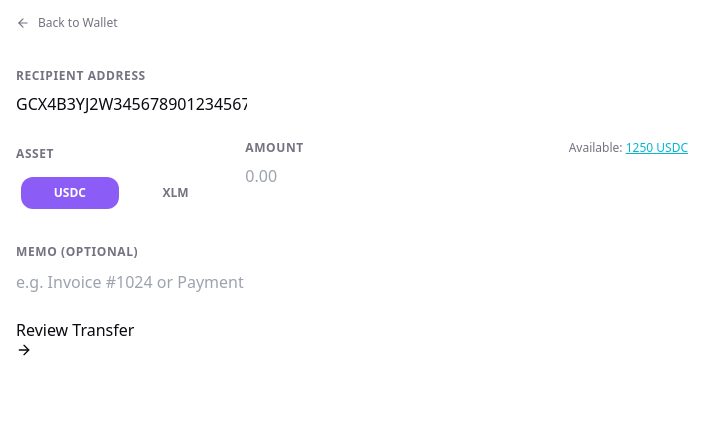
Test: WalletTransferPage › validates empty amount and displays alert
Step 1. Click the button with test id "review-transfer-button" → click(75, 338), box x1=16 y1=318 x2=134 y2=358
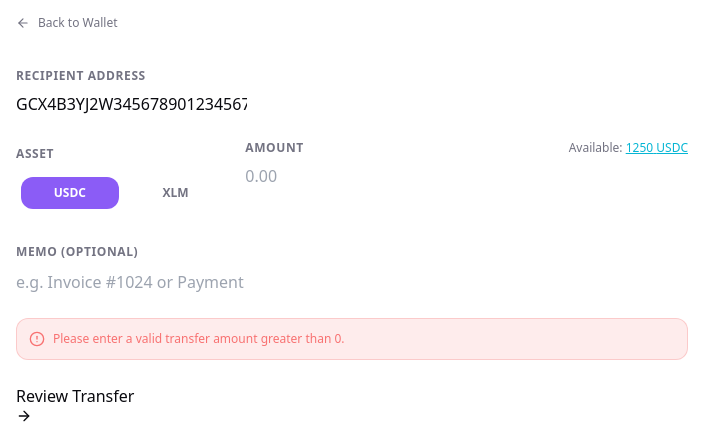
expect the message "Please enter a valid transfer amount greater than 0." is shown: met, box x1=16 y1=318 x2=688 y2=360
expect the text "Please enter a valid transfer amount greater than 0." is shown: met, box x1=53 y1=331 x2=344 y2=347
